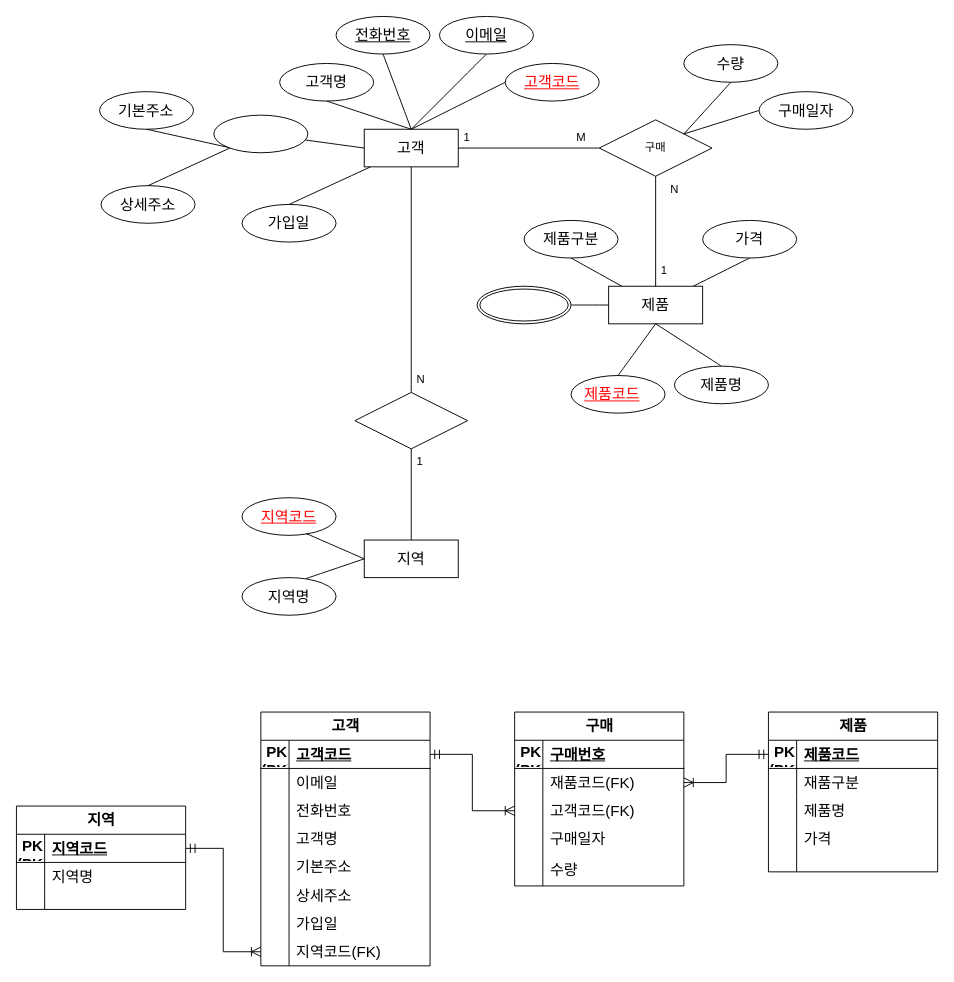
The diagram is 954 pixels wide and 982 high, and some of its shapes have lost their labels. Here are the shapes that lost their labels. From the top down, the centre of each, then its label:
the point at 260,133: 주소
the point at 523,304: 제품색상
the point at 411,420: 관리
